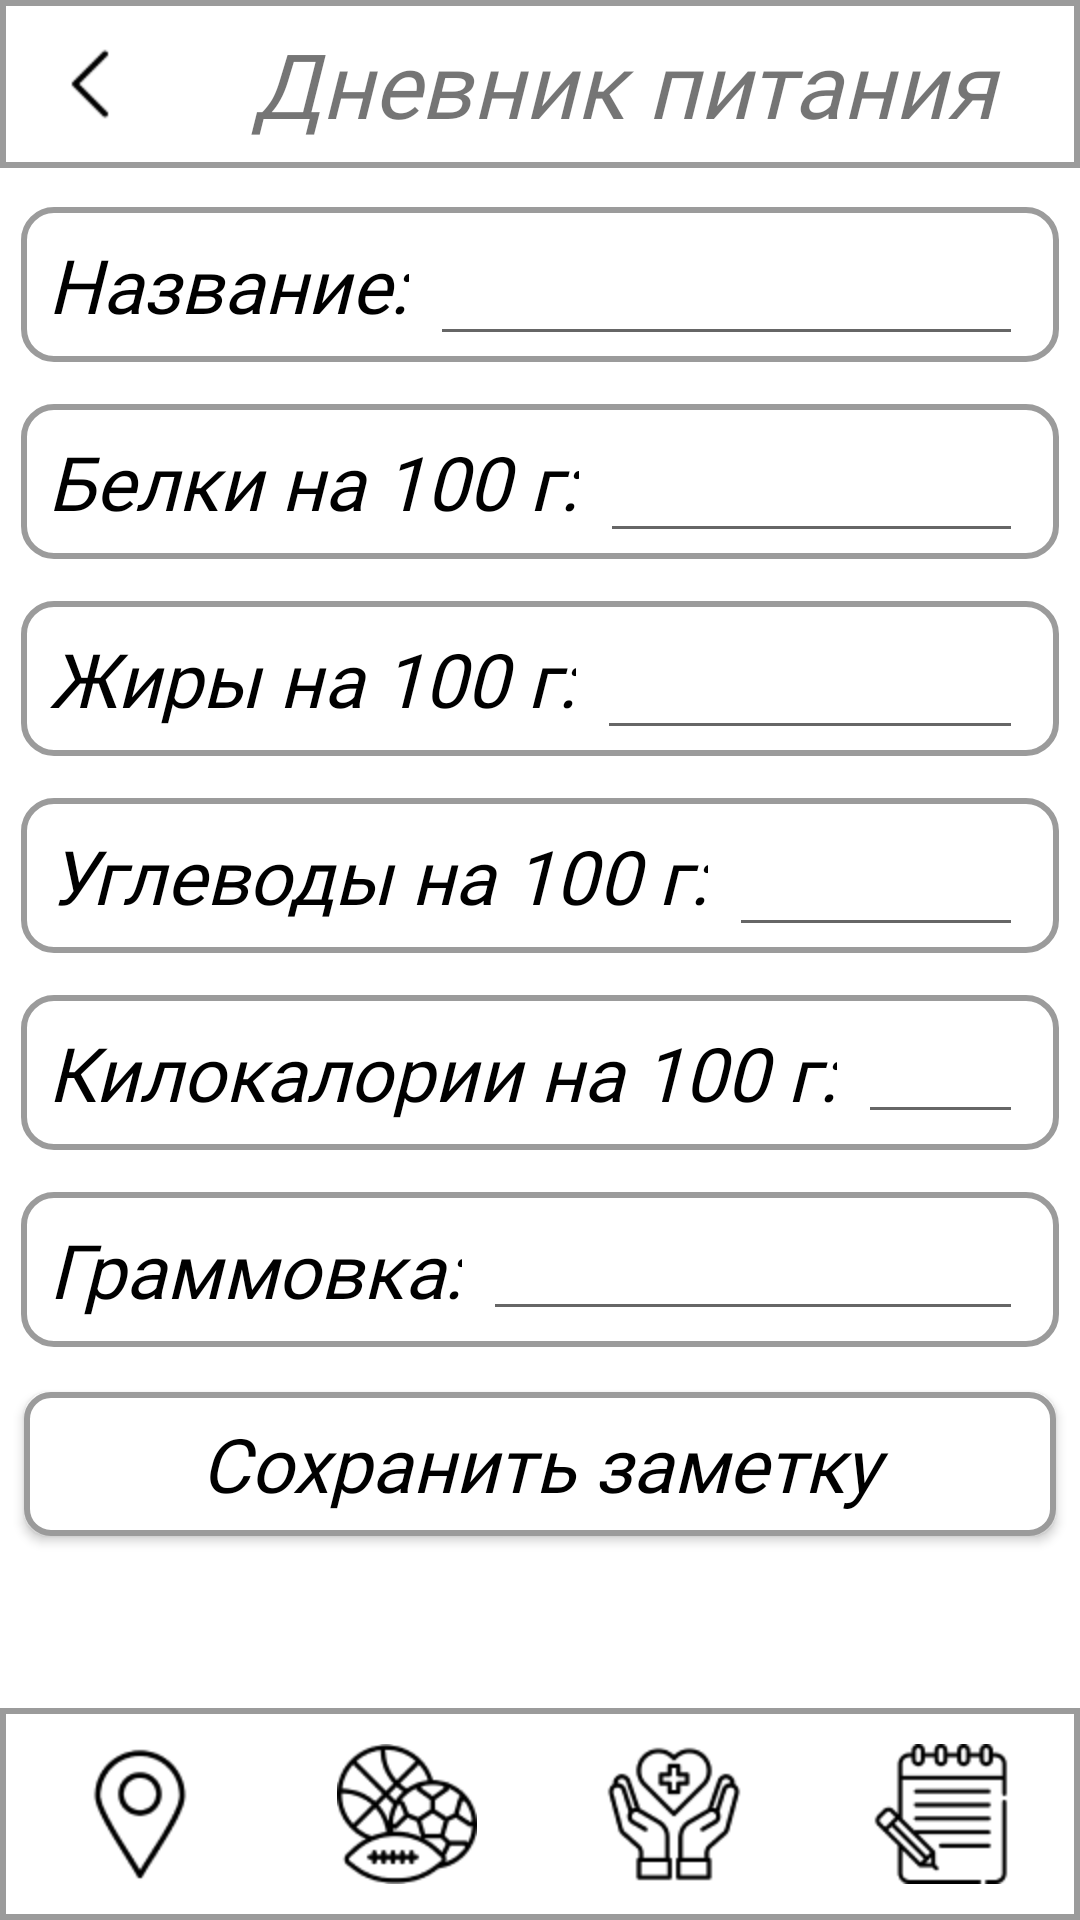

Where to tap for icons on this 1080 × 1920 app screen, as (x=x, y=y):
Здоровье: (x=674, y=1814)
Спорт: (x=407, y=1814)
